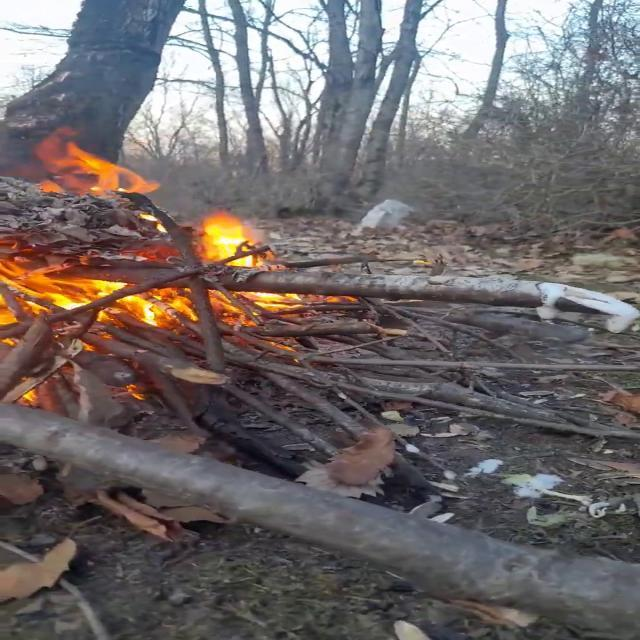Fire: (3, 216, 361, 354), (28, 134, 164, 202)
